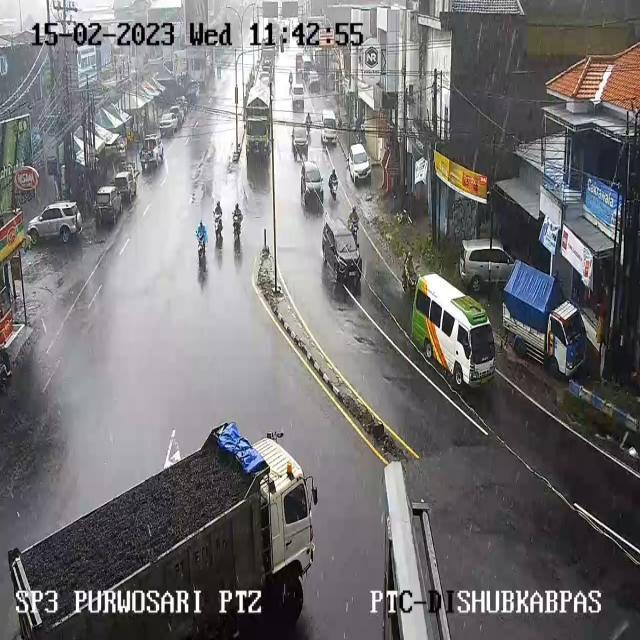Bus: (411, 274, 503, 391)
Car: (459, 238, 514, 292), (323, 220, 361, 292), (27, 202, 82, 244), (94, 187, 125, 225), (300, 162, 324, 206), (347, 143, 371, 184), (140, 134, 164, 169), (112, 170, 137, 203), (320, 109, 338, 143), (158, 111, 179, 135), (292, 126, 309, 154), (184, 80, 200, 104), (291, 82, 305, 109), (169, 105, 185, 126), (307, 73, 322, 93), (175, 97, 189, 118), (261, 55, 273, 75), (302, 54, 312, 76), (258, 72, 270, 88)
Motorbike: (214, 198, 226, 247), (195, 223, 208, 268), (403, 254, 418, 291), (232, 204, 243, 232), (349, 221, 359, 247), (328, 182, 338, 205)
Truck: (0, 428, 341, 615), (502, 264, 588, 380), (244, 79, 272, 159)
